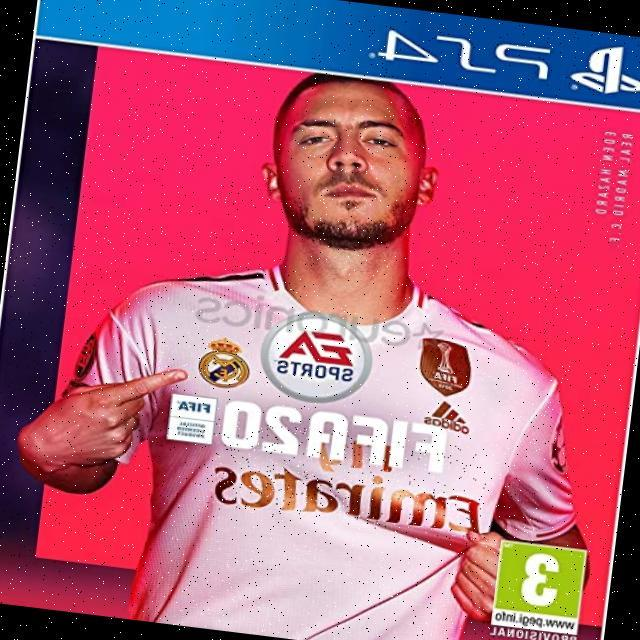Adidas: (422, 395, 474, 435)
Emirates: (205, 416, 490, 541)
